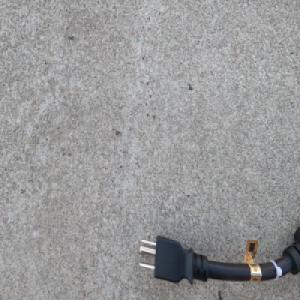Wire: (137, 224, 300, 286)
